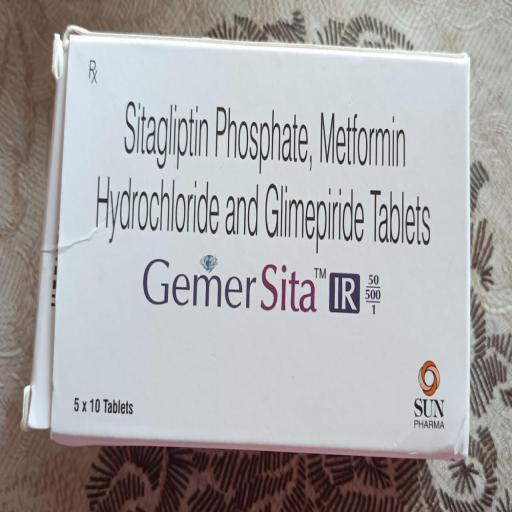gemer sita ir 50-500-1: (37, 29, 482, 465)
